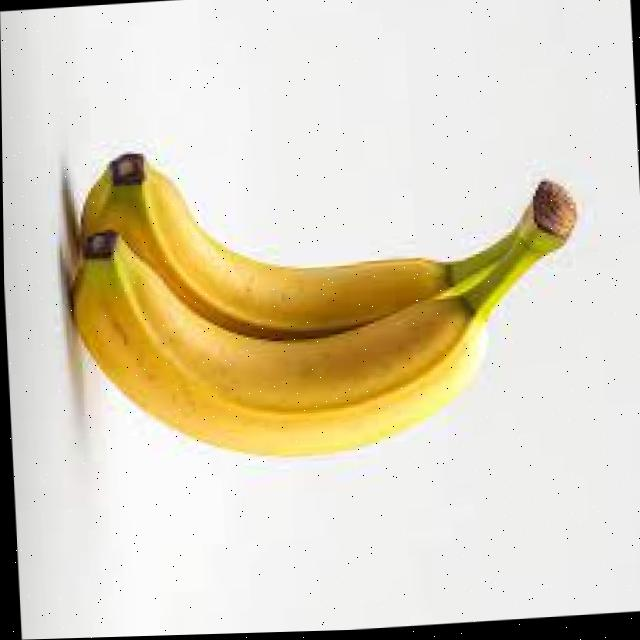Banana: (73, 239, 479, 455), (83, 155, 506, 340)
